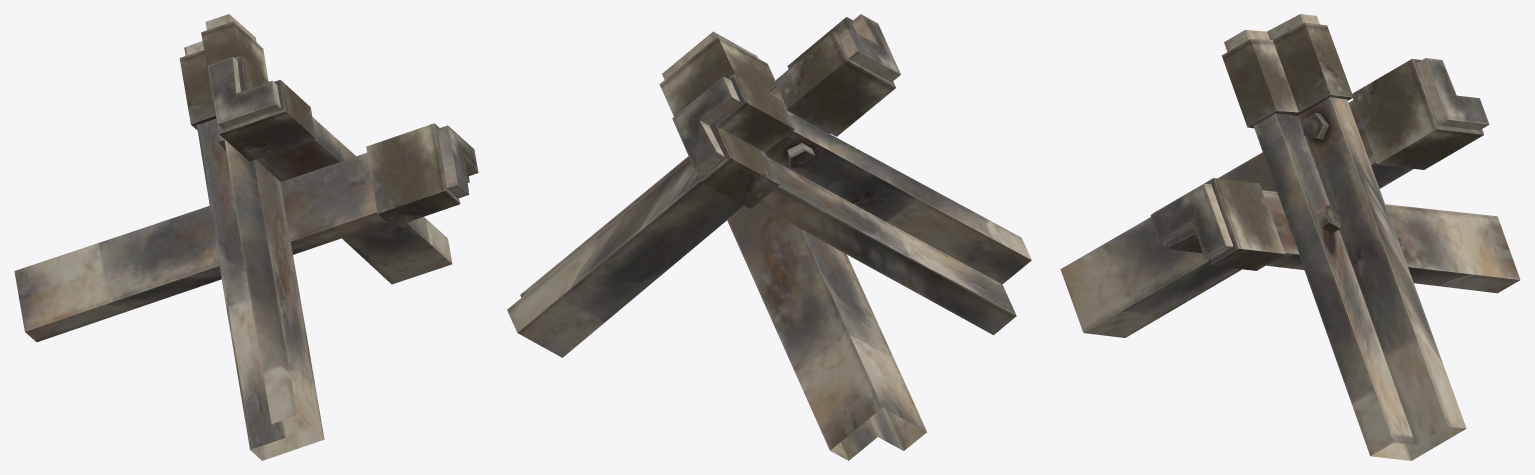
Rendered from C2SMTKCSH.obj.
3 renders of one model, left to right at view 1: azimuth 30°, elevation 25°; view 2: azimuth 150°, elevation 25°; view 3: azimuth 270°, elevation 25°, orthographic. The views are drawn at different scales.
Visible parts, largest first — view 1: Node 0; view 2: Node 0; view 3: Node 0.
Boxes of the visible parts, left/top/right/bottom form: Node 0: left=14, top=14, right=478, bottom=460; Node 0: left=507, top=14, right=1031, bottom=460; Node 0: left=1060, top=14, right=1520, bottom=460.
Bounding box in the file's own units: 8.55 × 6.76 × 8.02.
